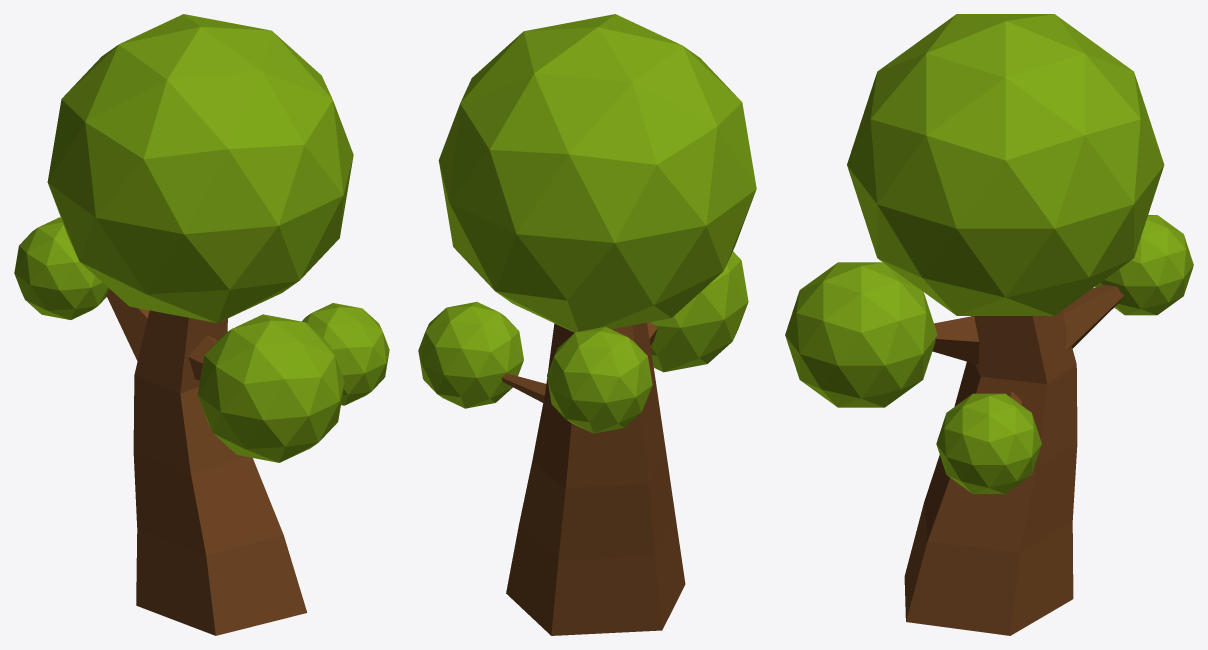
File: Derevo.fbx
The picture shows the model from 3 angles, left to right: view 1: azimuth 30°, elevation 25°; view 2: azimuth 150°, elevation 25°; view 3: azimuth 270°, elevation 25°; orthographic projection. The views are drawn at different scales.
Parts seen in each view (by area): view 1: Circle.001; view 2: Circle.001; view 3: Circle.001.
Part boxes in pixels (left/top/right/bottom): Circle.001: left=14, top=14, right=389, bottom=635; Circle.001: left=418, top=14, right=756, bottom=635; Circle.001: left=785, top=14, right=1193, bottom=635.
Bounding box in the file's own units: 3.81 × 6.81 × 4.41.
